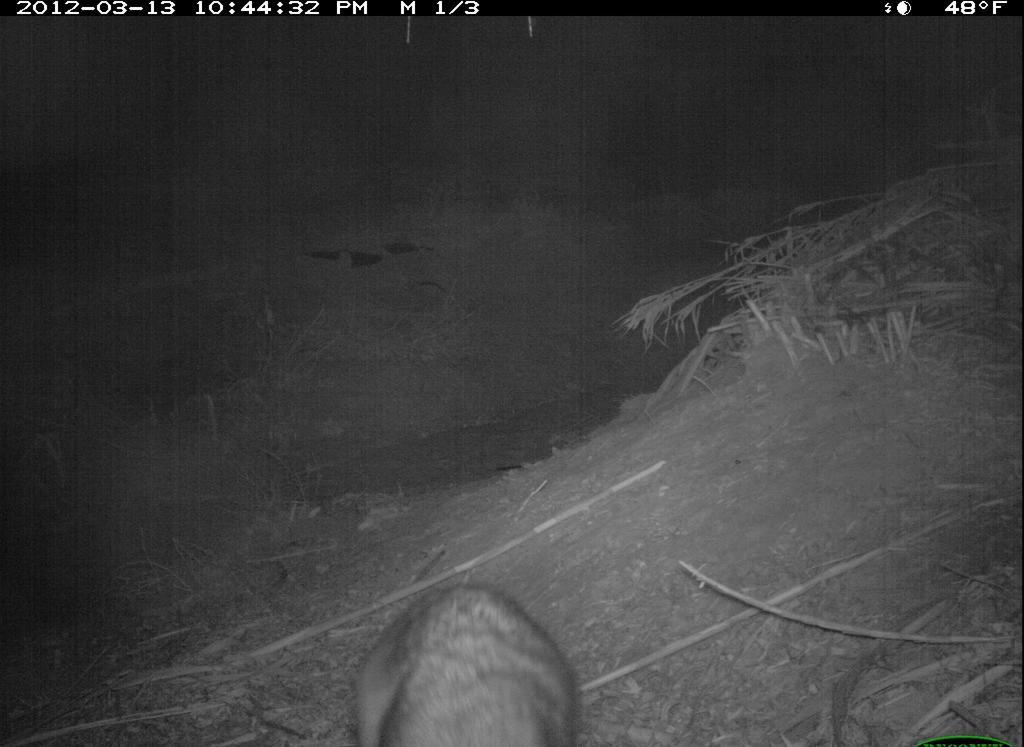raccoon: (321, 566, 607, 747)
